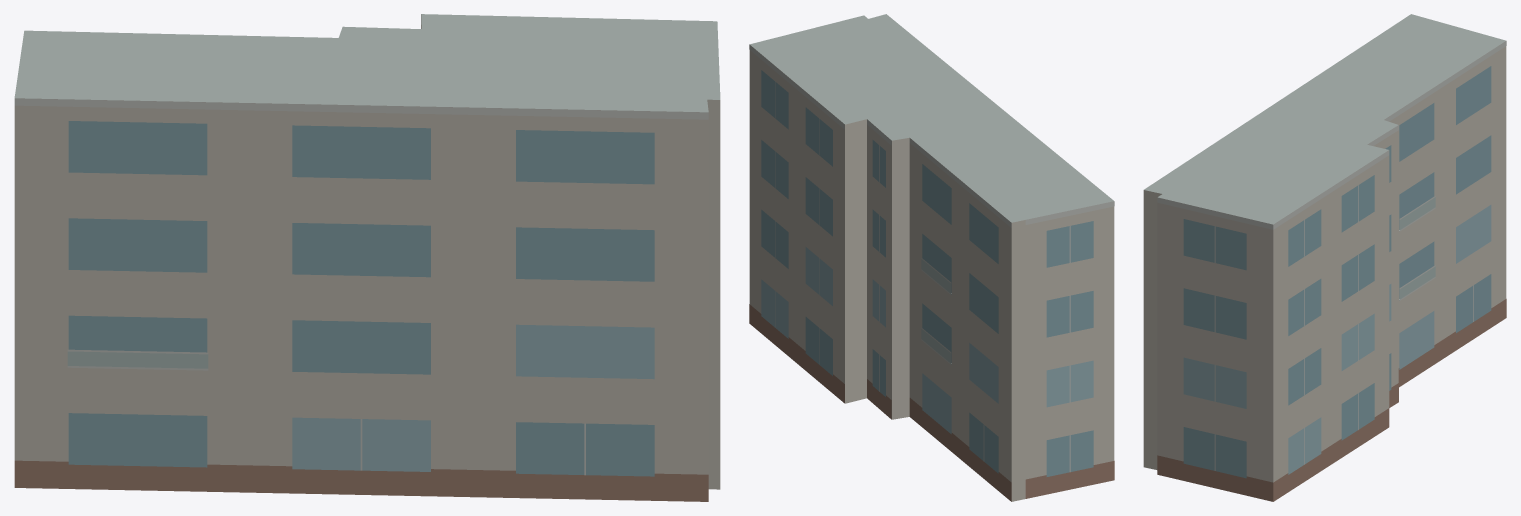
File: survey-upis-32501012.glb
The picture shows the model from 3 angles, left to right: view 1: azimuth 30°, elevation 25°; view 2: azimuth 150°, elevation 25°; view 3: azimuth 270°, elevation 25°; orthographic projection. The views are drawn at different scales.
Visible parts, largest first — view 1: survey-upis-32501012.tmp; view 2: survey-upis-32501012.tmp; view 3: survey-upis-32501012.tmp.
Boxes of the visible parts, box(x1,y1,x2,y2) form: survey-upis-32501012.tmp: box(14, 14, 720, 501); survey-upis-32501012.tmp: box(749, 14, 1114, 501); survey-upis-32501012.tmp: box(1143, 14, 1506, 501).
Bounding box in the file's own units: 20.95 × 12.86 × 15.26.
